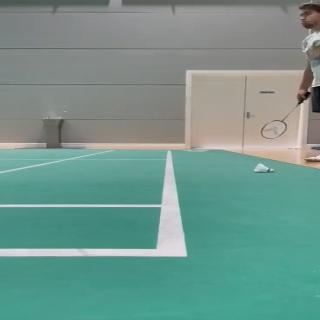Shuttle: (253, 164, 274, 172)
